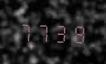eight: (69, 20, 85, 45)
seven: (18, 18, 34, 43), (35, 19, 51, 43)
three: (52, 19, 68, 44)
